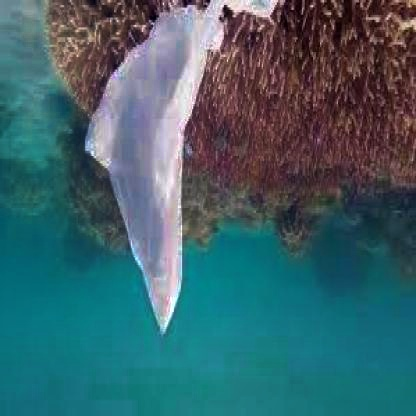pbag: (82, 2, 280, 340)
